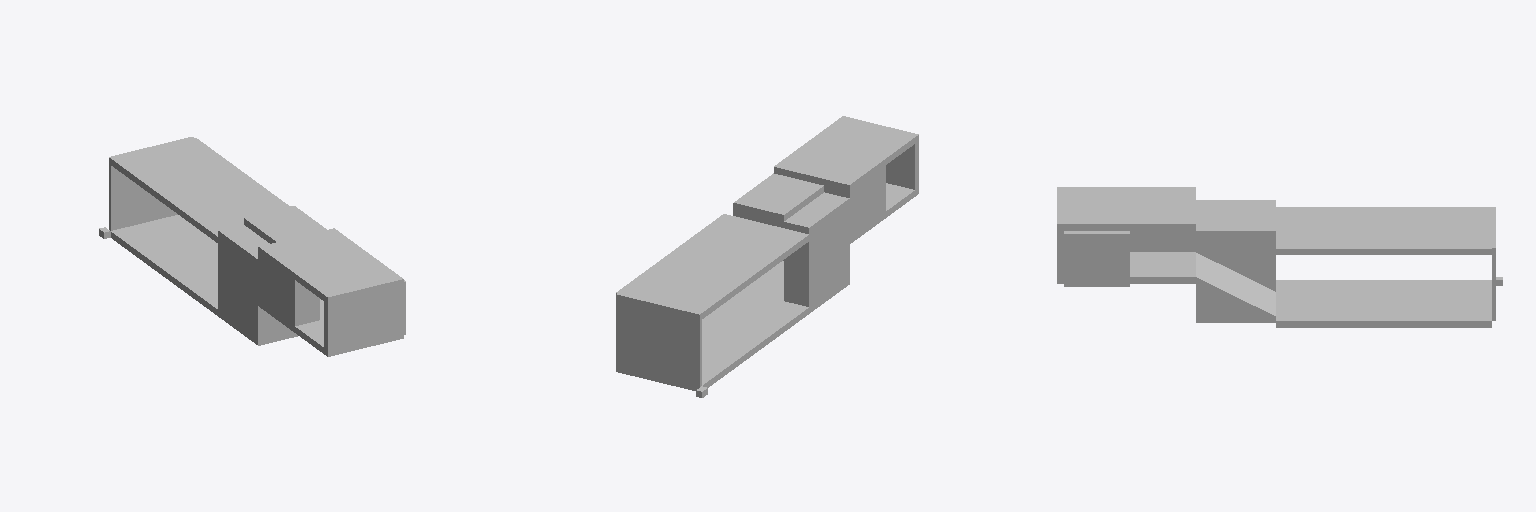
Rendered from Room3_Hallway_primitives.obj.
The picture shows the model from 3 angles: view 1: azimuth 30°, elevation 25°; view 2: azimuth 150°, elevation 25°; view 3: azimuth 270°, elevation 25°; orthographic projection.
Visible parts, largest first — view 1: Room3_Hallway_primitives; view 2: Room3_Hallway_primitives; view 3: Room3_Hallway_primitives.
Part boxes in pixels (x1,y1,x2,y2): Room3_Hallway_primitives: (99, 137, 405, 356); Room3_Hallway_primitives: (616, 116, 918, 397); Room3_Hallway_primitives: (1057, 187, 1502, 327).
Bounding box in the file's own units: 14.5 × 15 × 61.